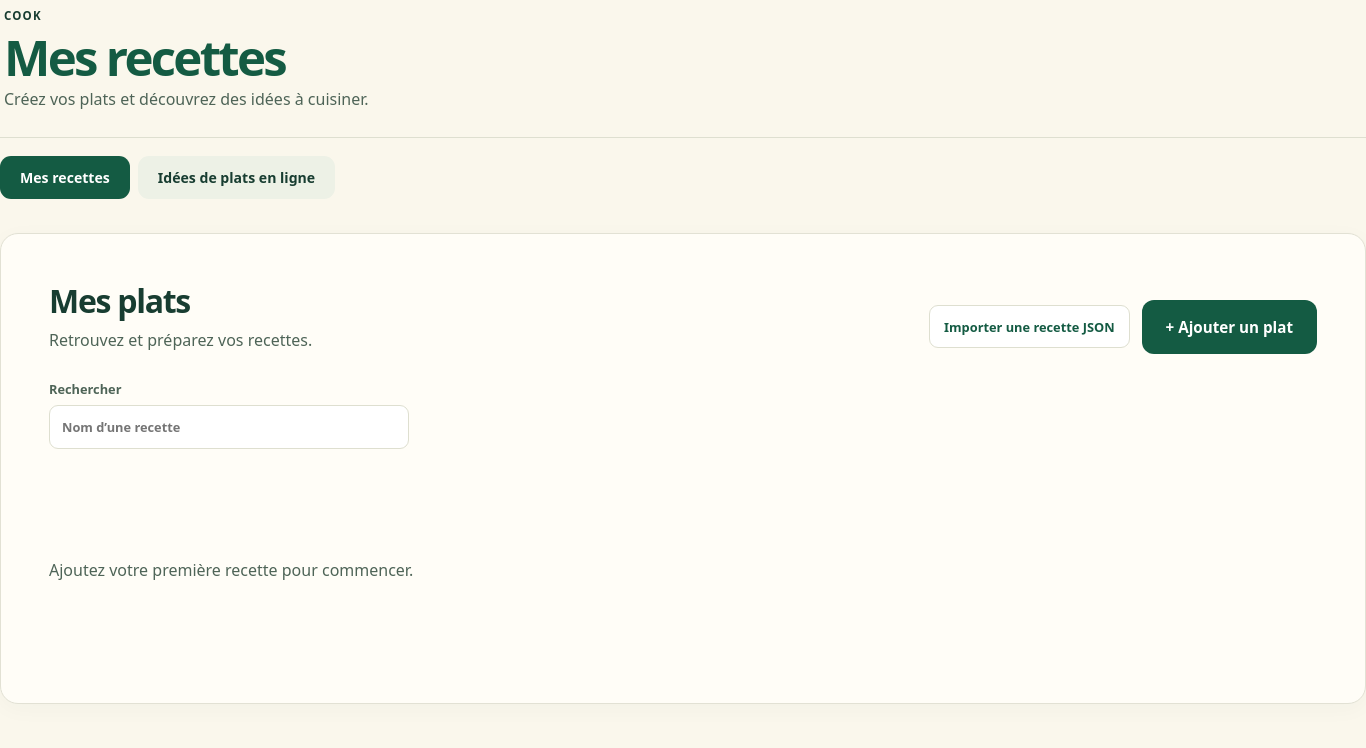
Test: TheMealDB translation › keeps the original recipe visible when the translation response is incomplete
The image size is (1366, 748).
Click the button "Idées de plats en ligne" at coordinates (236, 177), box top-left (138, 156), bottom-right (335, 199)
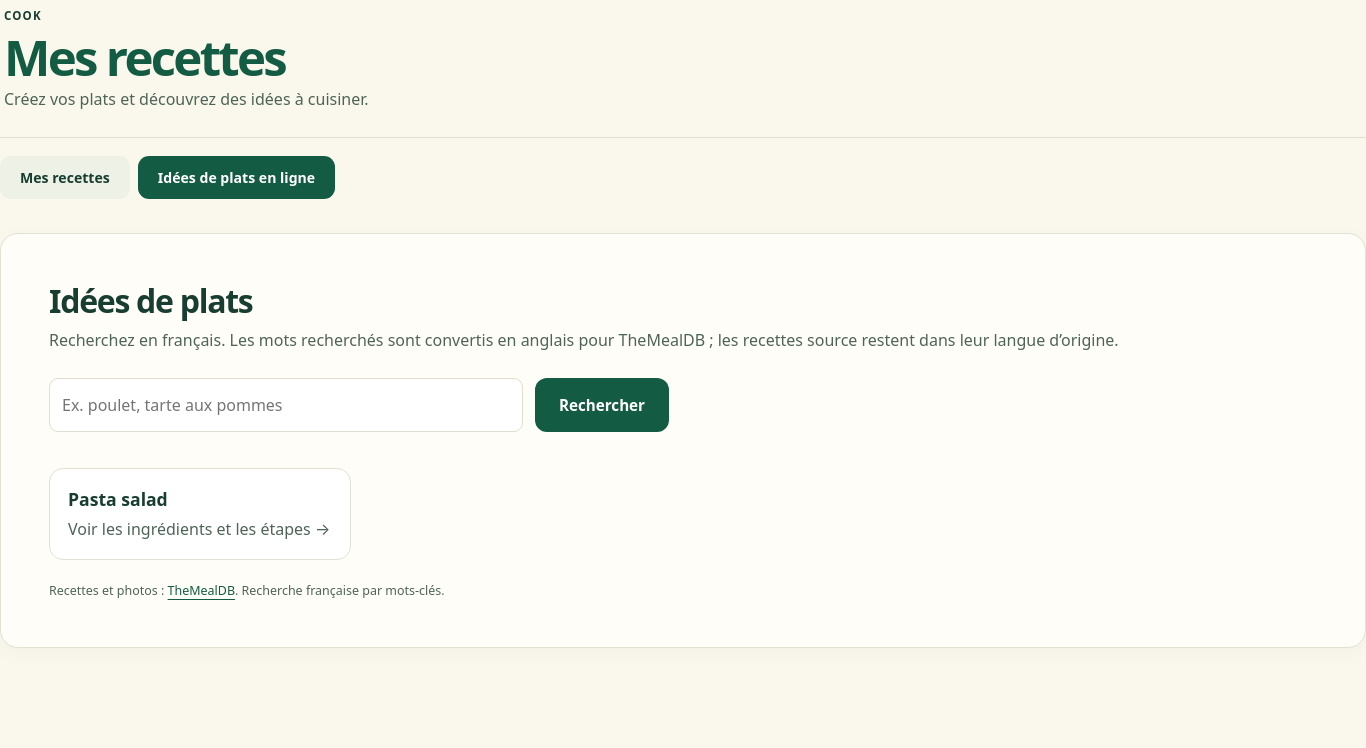
Click the button "Pasta salad Voir les ingrédients et les étapes →" at coordinates (118, 499), box top-left (49, 468), bottom-right (351, 560)
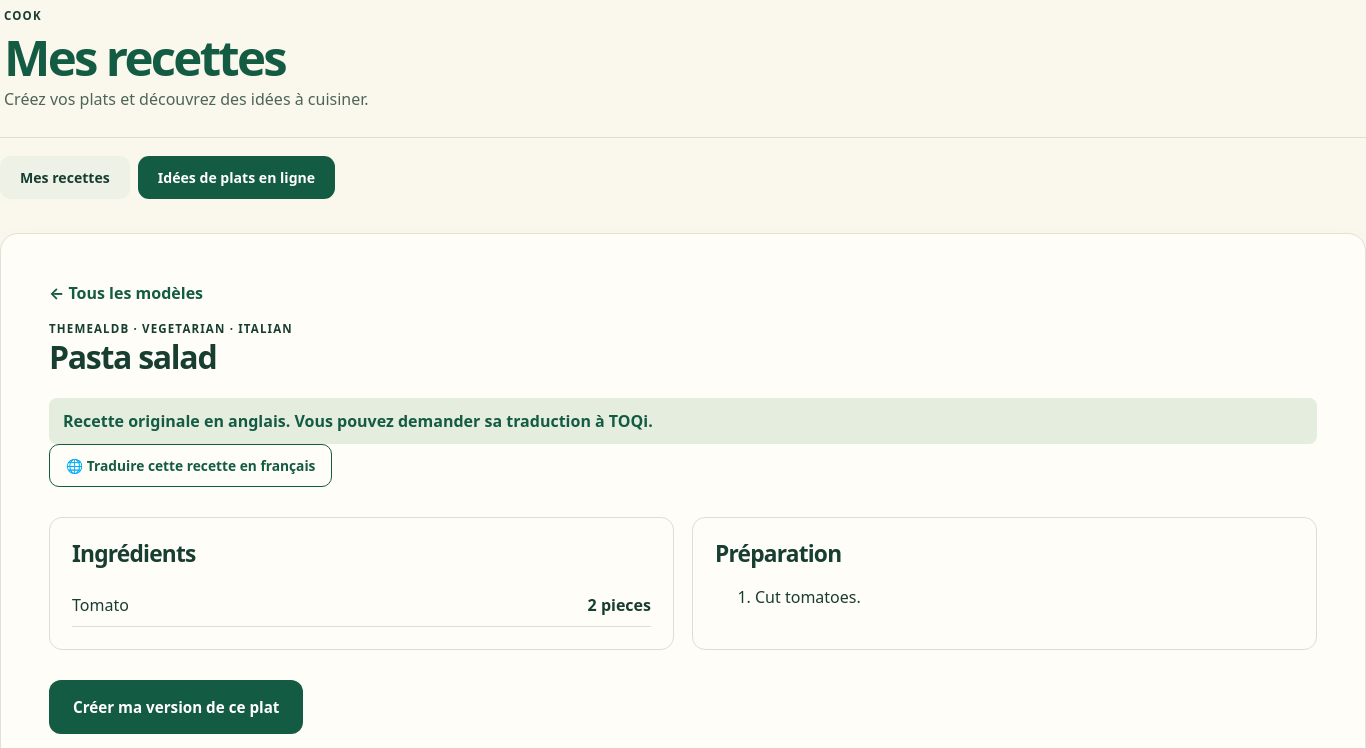
Click the button "🌐 Traduire cette recette en français" at coordinates (191, 466), box top-left (49, 444), bottom-right (332, 487)
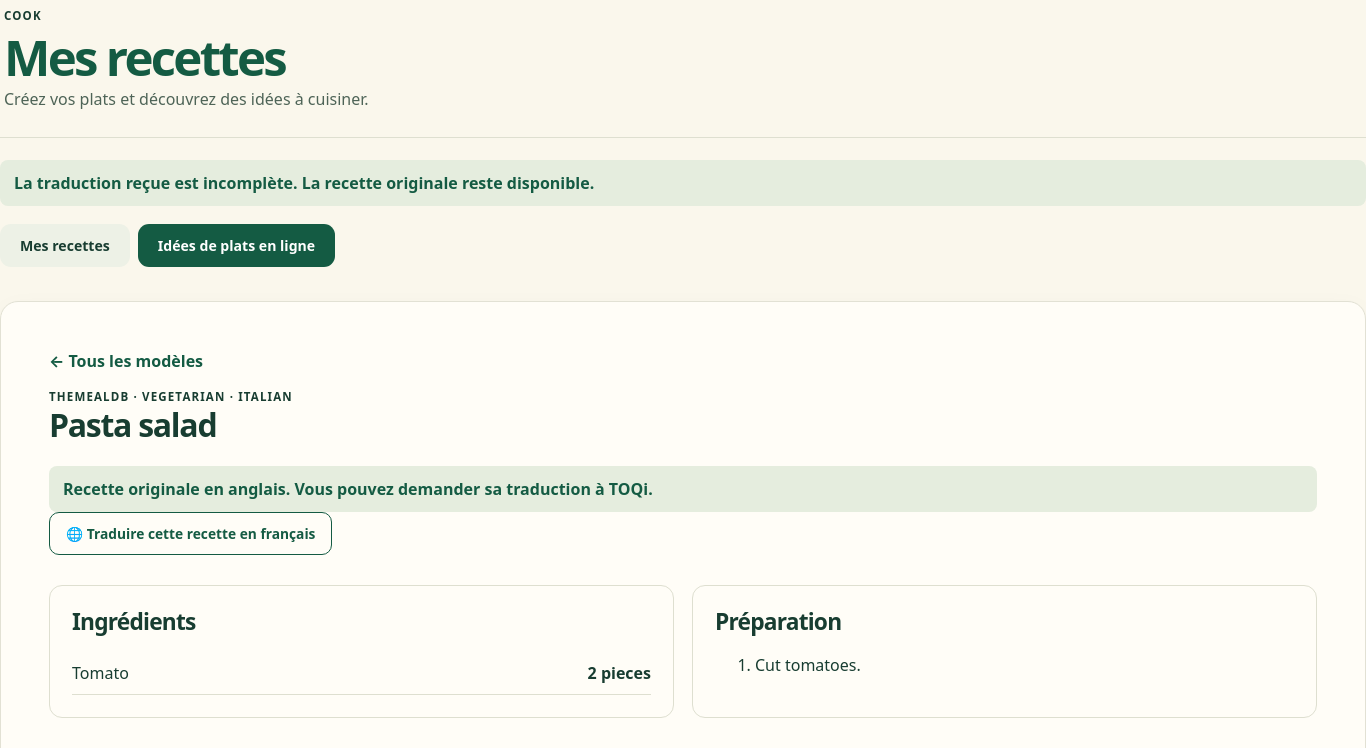
Result: the heading "Pasta salad" is shown at top-left (49, 403), bottom-right (216, 446)
Result: the list item "Cut tomatoes." is shown at top-left (755, 654), bottom-right (861, 676)
Result: the message shows "traduction reçue est incomplète" at top-left (14, 172), bottom-right (594, 194)
